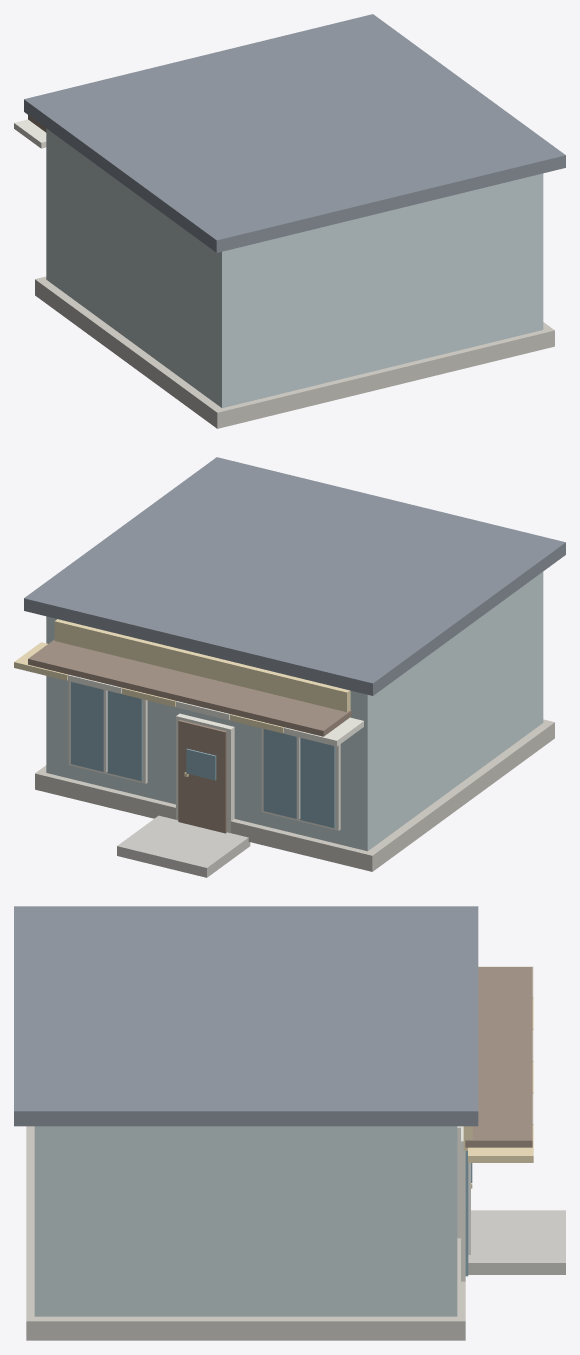
The model's file is Shop_Bookstore.glb.
The picture shows the model from 3 angles, top to bottom: view 1: azimuth 30°, elevation 25°; view 2: azimuth 150°, elevation 25°; view 3: azimuth 270°, elevation 25°; orthographic projection. The views are drawn at different scales.
Parts seen in each view (by area): view 1: 001_facade_001, 002_parapet_002, 000_foundation_000, 015_awning_strip_015; view 2: 002_parapet_002, 001_facade_001, 000_foundation_000, 021_awning_support_021, 003_signboard_003, 005_storefront_glass_005, 008_storefront_glass_008, 014_stoop_014, 011_door_011, 010_door_trim_010, 004_storefront_frame_004, 015_awning_strip_015 (+3 smaller); view 3: 002_parapet_002, 001_facade_001, 000_foundation_000, 021_awning_support_021, 014_stoop_014, 020_awning_strip_020, 007_storefront_frame_007.
Part boxes in pixels (x1=…): 001_facade_001: x1=46, y1=128, x2=543, y2=408; 002_parapet_002: x1=24, y1=14, x2=565, y2=252; 000_foundation_000: x1=35, y1=276, x2=554, y2=428; 015_awning_strip_015: x1=14, y1=119, x2=46, y2=148; 002_parapet_002: x1=24, y1=457, x2=565, y2=695; 001_facade_001: x1=46, y1=572, x2=543, y2=851; 000_foundation_000: x1=35, y1=719, x2=554, y2=871; 021_awning_support_021: x1=28, y1=639, x2=351, y2=736; 003_signboard_003: x1=54, y1=619, x2=350, y2=717; 005_storefront_glass_005: x1=263, y1=729, x2=335, y2=828; 008_storefront_glass_008: x1=71, y1=682, x2=142, y2=781; 014_stoop_014: x1=117, y1=815, x2=250, y2=877; 011_door_011: x1=178, y1=720, x2=226, y2=833; 010_door_trim_010: x1=176, y1=713, x2=234, y2=833; 004_storefront_frame_004: x1=261, y1=728, x2=340, y2=830; 015_awning_strip_015: x1=284, y1=717, x2=363, y2=746; 002_parapet_002: x1=14, y1=906, x2=478, y2=1126; 001_facade_001: x1=34, y1=1126, x2=457, y2=1316; 000_foundation_000: x1=26, y1=1126, x2=465, y2=1340; 021_awning_support_021: x1=465, y1=967, x2=532, y2=1147; 014_stoop_014: x1=468, y1=1210, x2=565, y2=1274; 020_awning_strip_020: x1=468, y1=1125, x2=533, y2=1162; 007_storefront_frame_007: x1=461, y1=1126, x2=465, y2=1281.
Size of the model in its own units: 8.15 by 4.45 by 9.28.
